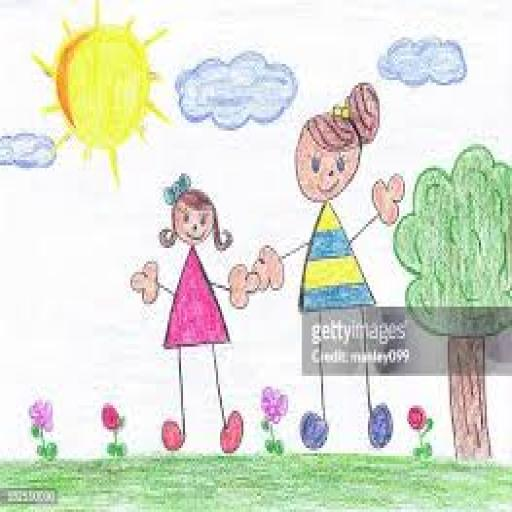person: (254, 77, 406, 457), (129, 156, 258, 460)
